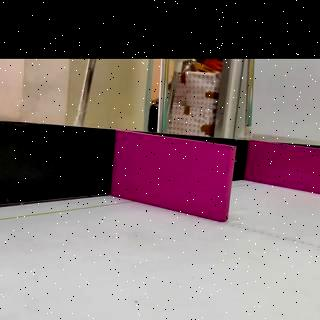xparking: (119, 144, 230, 212), (251, 146, 320, 190)
